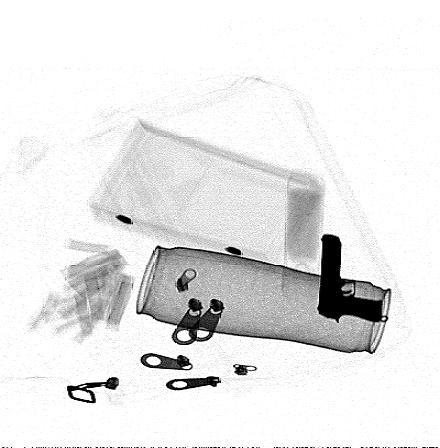Gun: (318, 233, 384, 325)
